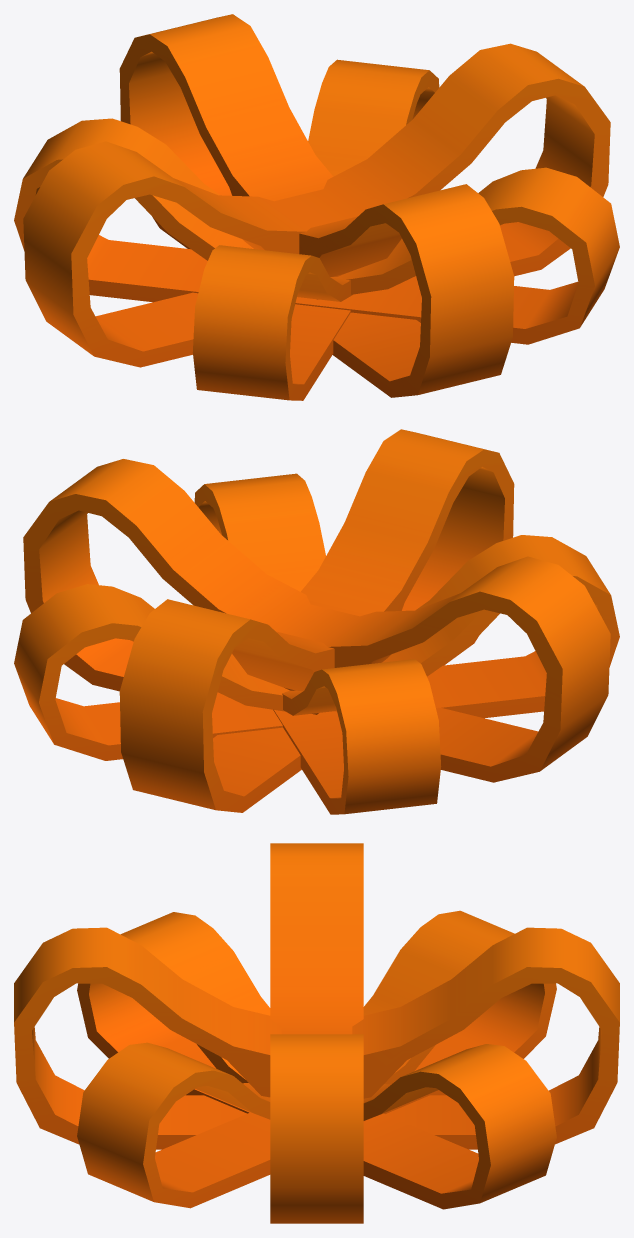
The model's file is bow_010.fbx.
The picture shows the model from 3 angles, top to bottom: view 1: azimuth 30°, elevation 25°; view 2: azimuth 150°, elevation 25°; view 3: azimuth 270°, elevation 25°; orthographic projection. The views are drawn at different scales.
Parts seen in each view (by area): view 1: bow_010; view 2: bow_010; view 3: bow_010.
Boxes of the visible parts, x1,y1,x2,y2 form: bow_010: (14, 14, 619, 400); bow_010: (14, 429, 619, 814); bow_010: (14, 843, 619, 1223).
Size of the model in its own units: 195 by 195 by 65.41.
